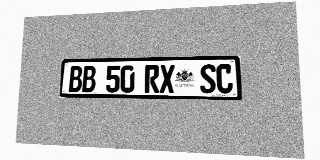0: (120, 65, 135, 93)
5: (106, 65, 120, 93)
B: (69, 66, 83, 92), (82, 66, 96, 92)
C: (216, 64, 233, 93)
R: (145, 65, 159, 93)
S: (200, 64, 216, 93)
X: (160, 65, 175, 93)
